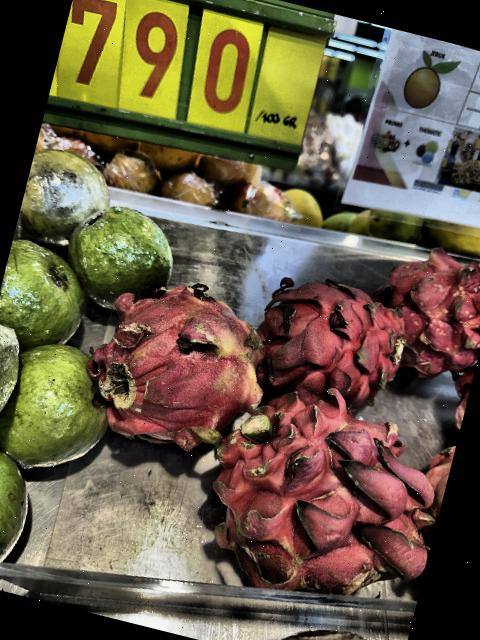buah-naga-belum-matang: (77, 256, 287, 468)
buah-naga-matang: (184, 351, 465, 622), (238, 248, 428, 420), (355, 224, 480, 385)
